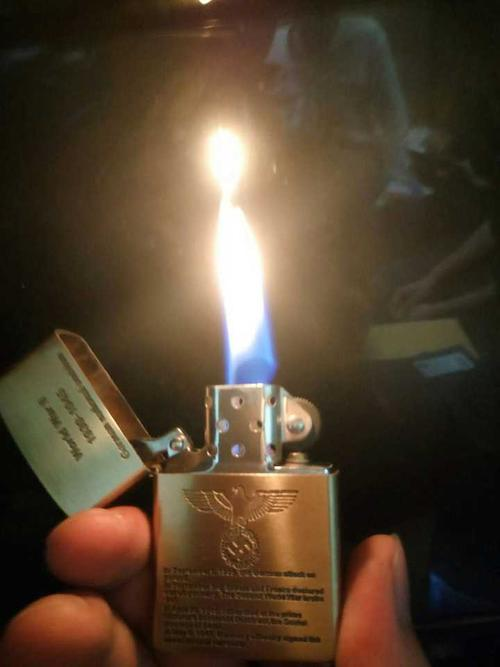fire: (187, 136, 293, 403)
